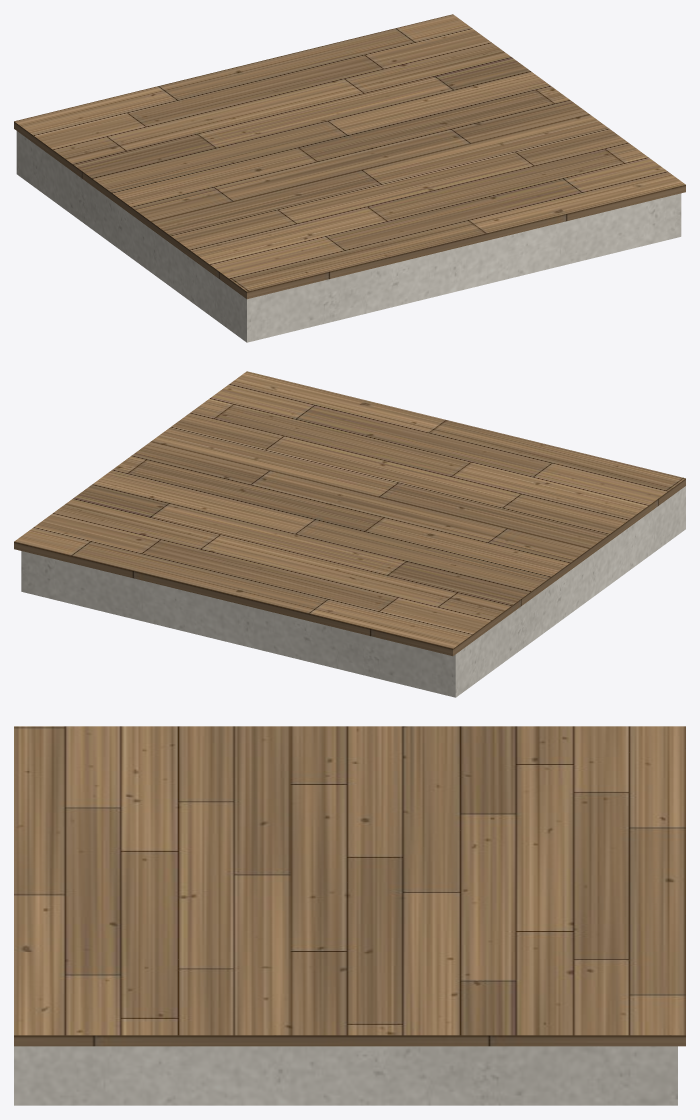
The model's file is floor_wood_c_e15_0_0_30.glb.
3 renders of one model, top to bottom at view 1: azimuth 30°, elevation 25°; view 2: azimuth 150°, elevation 25°; view 3: azimuth 270°, elevation 25°, orthographic. The views are drawn at different scales.
Visible parts, largest first — view 1: floor_wood_c_e15_0_0_30_attic, floor_wood_c_e15_0_0_30_plaster; view 2: floor_wood_c_e15_0_0_30_attic, floor_wood_c_e15_0_0_30_plaster; view 3: floor_wood_c_e15_0_0_30_attic, floor_wood_c_e15_0_0_30_plaster.
Boxes of the visible parts, x1=… form: floor_wood_c_e15_0_0_30_attic: x1=14, y1=14, x2=685, y2=299; floor_wood_c_e15_0_0_30_plaster: x1=16, y1=131, x2=681, y2=342; floor_wood_c_e15_0_0_30_attic: x1=14, y1=371, x2=685, y2=656; floor_wood_c_e15_0_0_30_plaster: x1=21, y1=486, x2=685, y2=697; floor_wood_c_e15_0_0_30_attic: x1=14, y1=726, x2=685, y2=1046; floor_wood_c_e15_0_0_30_plaster: x1=14, y1=1046, x2=677, y2=1105.
Bounding box in the file's own units: 1.85 × 0.205 × 1.7.
Materials: 2 (2 with a texture image).
